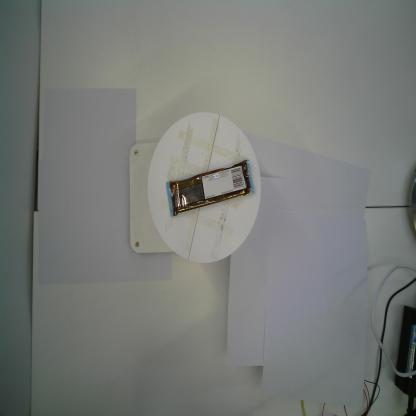Chocolate: (165, 158, 255, 218)
